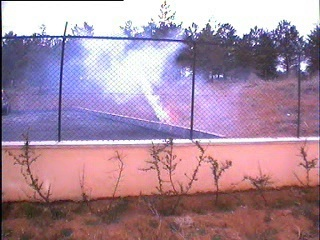smoke: (67, 28, 192, 121)
